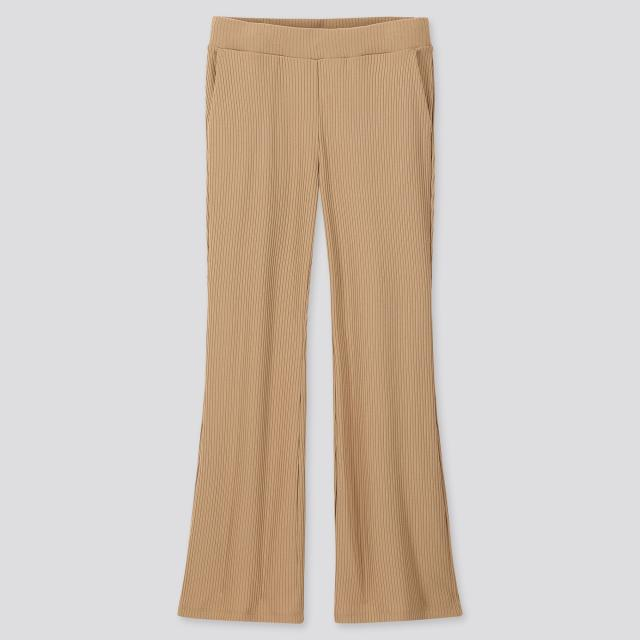long-pants: (176, 17, 464, 629)
